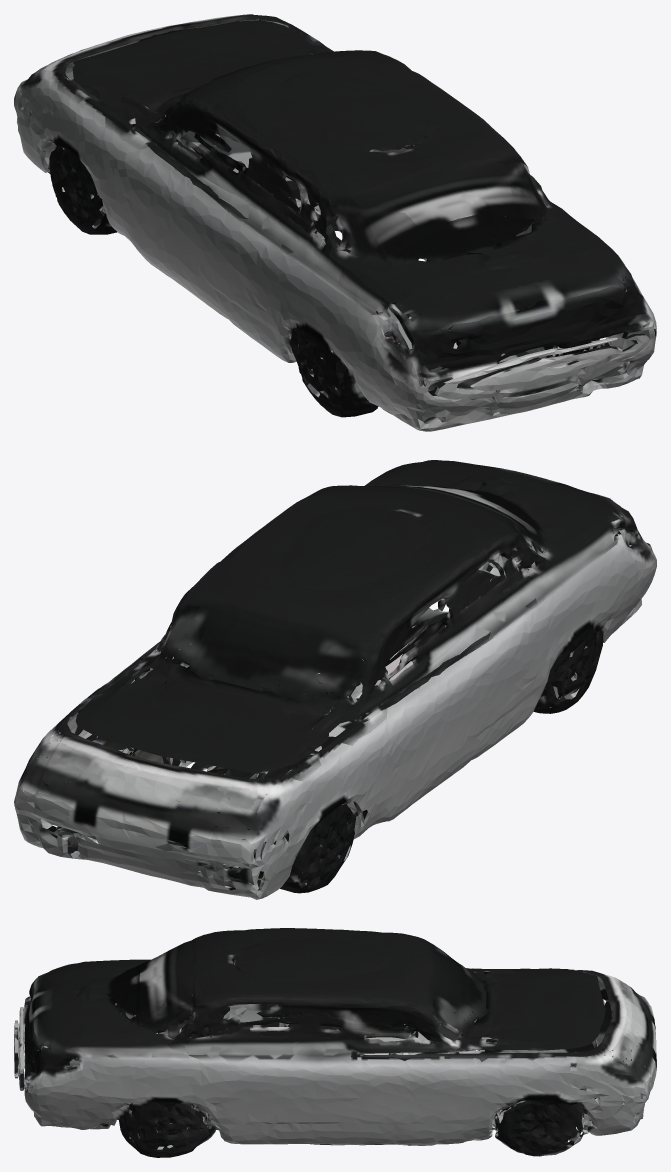
3 views of the same model, one above another, from view 1: azimuth 30°, elevation 25°; view 2: azimuth 150°, elevation 25°; view 3: azimuth 270°, elevation 25° (orthographic). The views are drawn at different scales.
Visible parts, largest first — view 1: world; view 2: world; view 3: world.
Part boxes in pixels (x1,y1,x2,y2): world: (14,14,656,431); world: (14,460,656,899); world: (14,928,656,1157).
Size of the model in its own units: 0.3733 by 0.2688 by 0.9957.
1 material, 1 textured.
